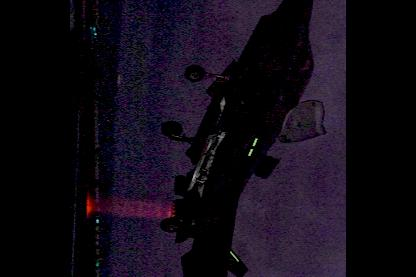F22: (161, 0, 329, 276)
